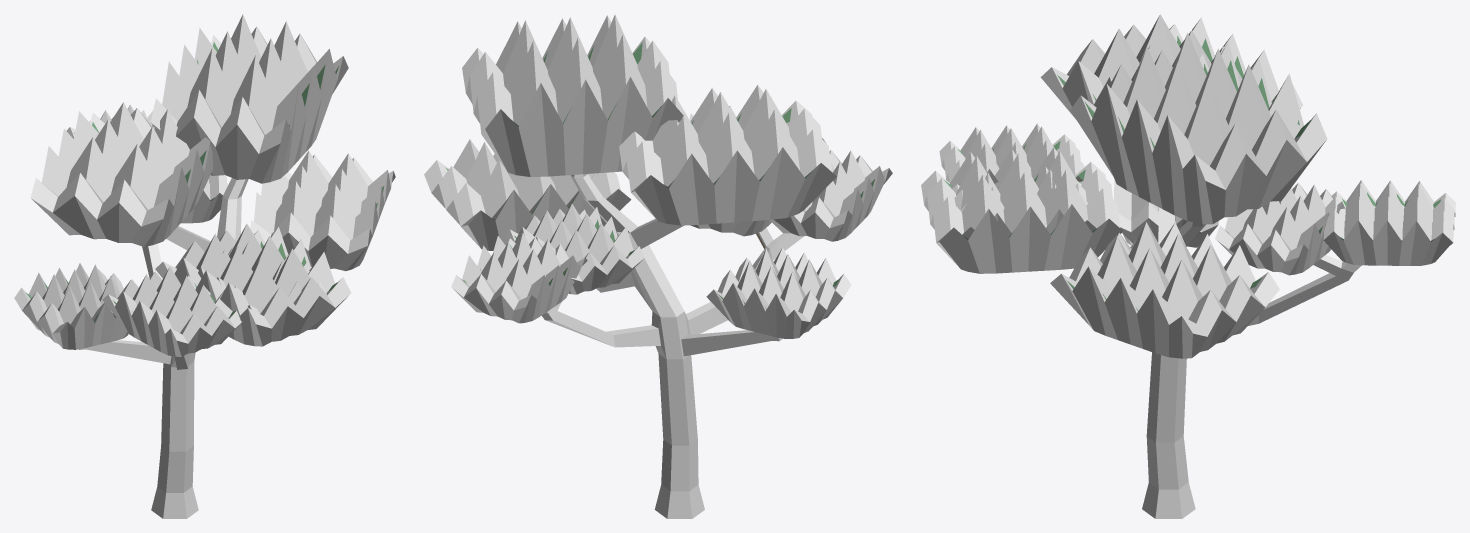
The model's file is resource__tree__jungle-tree-1.fbx.
3 views of the same model, side by side, from view 1: azimuth 30°, elevation 25°; view 2: azimuth 150°, elevation 25°; view 3: azimuth 270°, elevation 25° (orthographic). The views are drawn at different scales.
Parts seen in each view (by area): view 1: Jungle_Tree_1; view 2: Jungle_Tree_1; view 3: Jungle_Tree_1.
Boxes of the visible parts, x1,y1,x2,y2 form: Jungle_Tree_1: (14,14,395,518); Jungle_Tree_1: (424,14,892,518); Jungle_Tree_1: (921,14,1455,518).
Bounding box in the file's own units: 230 × 259 × 250.
